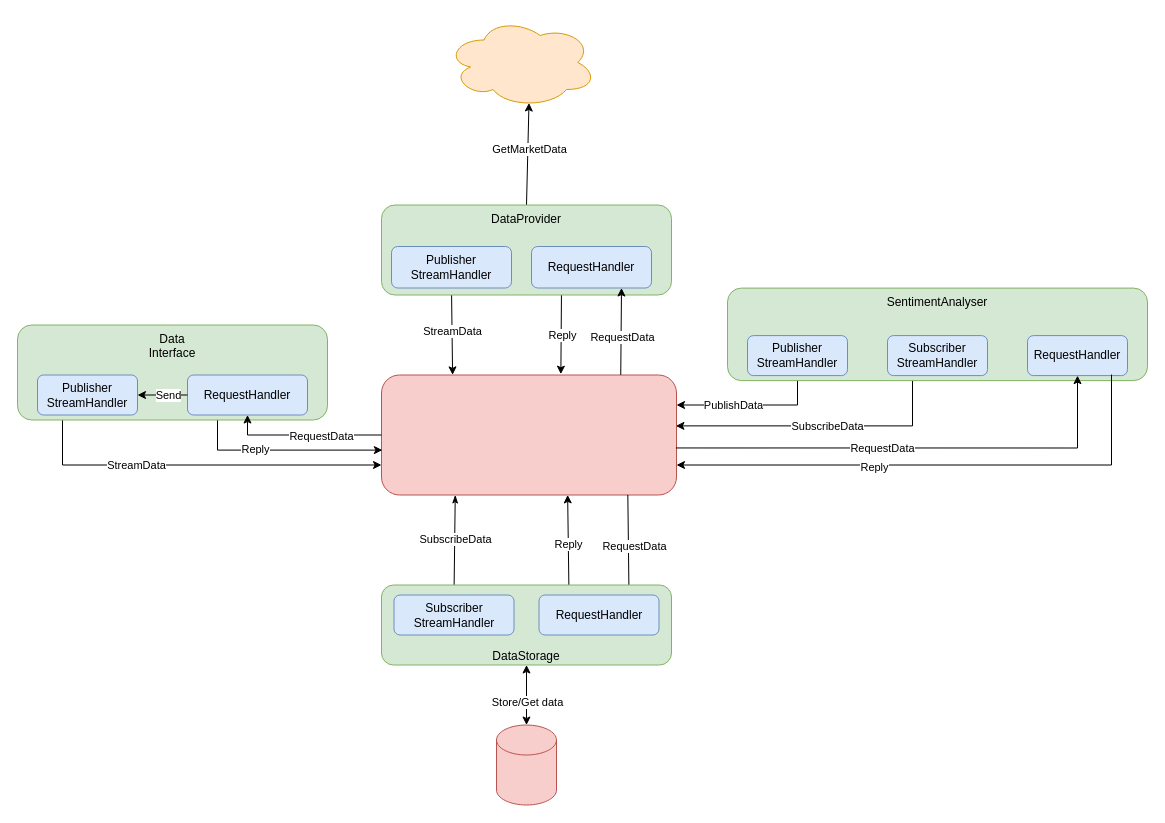
The diagram is 1165 pixels wide and 823 high, and some of its shapes have lost their labels. The centre of each missing label's shape, as x and y in pixels:
DataSource (e.g. Alpaca.markets): the point at 521,62
DataStreamingComponent (e.g. NATS): the point at 528,434
DB: the point at 526,764
